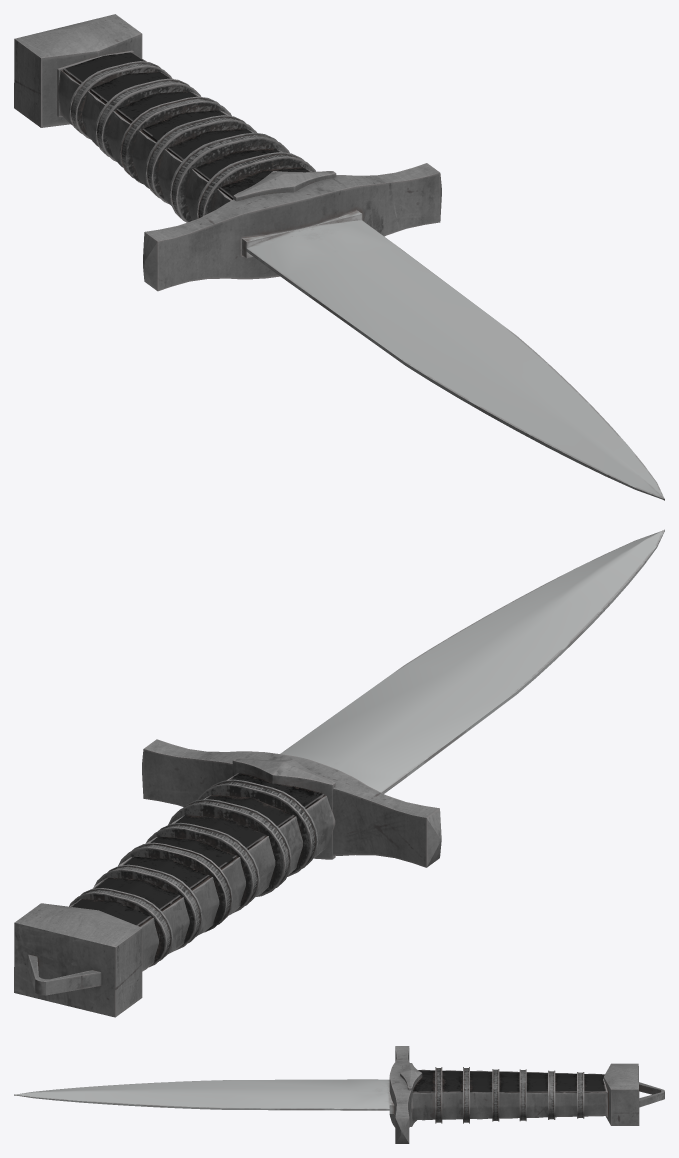
Rendered from Dagger.glb.
The picture shows the model from 3 angles, top to bottom: view 1: azimuth 30°, elevation 25°; view 2: azimuth 150°, elevation 25°; view 3: azimuth 270°, elevation 25°; orthographic projection. The views are drawn at different scales.
Visible parts, largest first — view 1: blade_low, thing_low, rings_low, end_low, grip_low, leather_low, thing1_low; view 2: blade_low, rings_low, thing_low, end_low, grip_low, leather_low, thing1_low; view 3: blade_low, leather_low, grip_low, end_low, rings_low, thing_low, thing1_low.
Part boxes in pixels (x1=…): blade_low: x1=242, y1=210, x2=664, y2=500; thing_low: x1=143, y1=163, x2=441, y2=291; rings_low: x1=68, y1=61, x2=316, y2=222; end_low: x1=14, y1=14, x2=142, y2=127; grip_low: x1=63, y1=52, x2=310, y2=199; leather_low: x1=58, y1=59, x2=311, y2=220; thing1_low: x1=233, y1=171, x2=336, y2=201; blade_low: x1=280, y1=529, x2=664, y2=793; rings_low: x1=69, y1=779, x2=318, y2=967; thing_low: x1=142, y1=739, x2=441, y2=867; end_low: x1=14, y1=903, x2=142, y2=1017; grip_low: x1=71, y1=773, x2=324, y2=926; leather_low: x1=70, y1=775, x2=335, y2=971; thing1_low: x1=232, y1=758, x2=335, y2=859; blade_low: x1=14, y1=1079, x2=394, y2=1113; leather_low: x1=411, y1=1069, x2=606, y2=1120; grip_low: x1=412, y1=1070, x2=606, y2=1120; end_low: x1=603, y1=1063, x2=664, y2=1125; rings_low: x1=435, y1=1067, x2=584, y2=1123; thing_low: x1=389, y1=1046, x2=411, y2=1143; thing1_low: x1=400, y1=1063, x2=422, y2=1126.
Bounding box in the file's own units: 3.44 × 1.04 × 12.5.
Materials: 1 (1 with a texture image).
